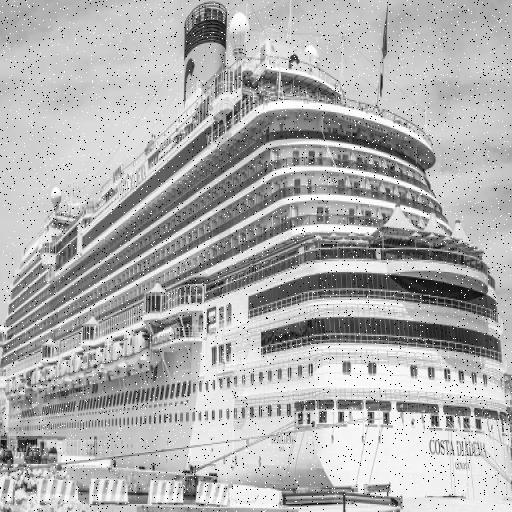cruises: (1, 6, 512, 512)
